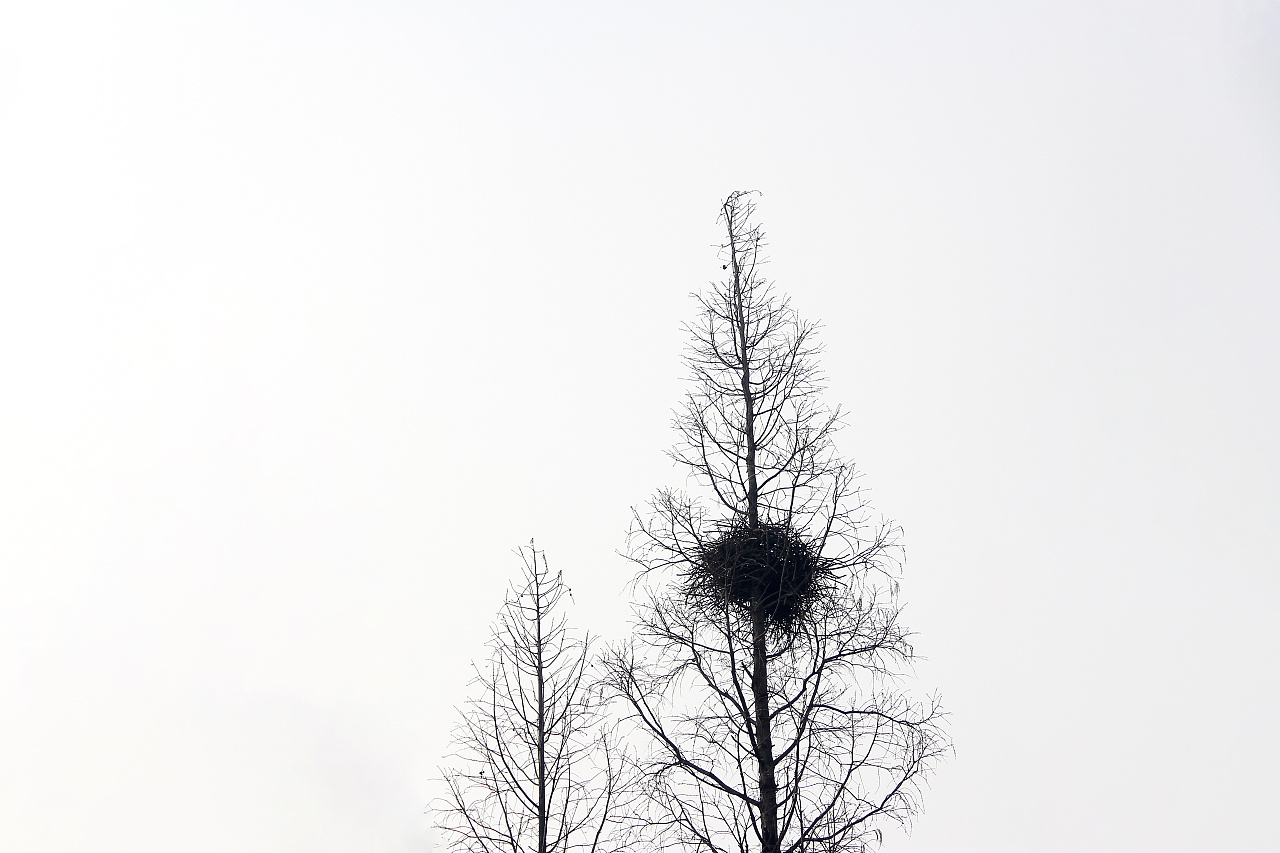bird-nest: (693, 519, 833, 635)
